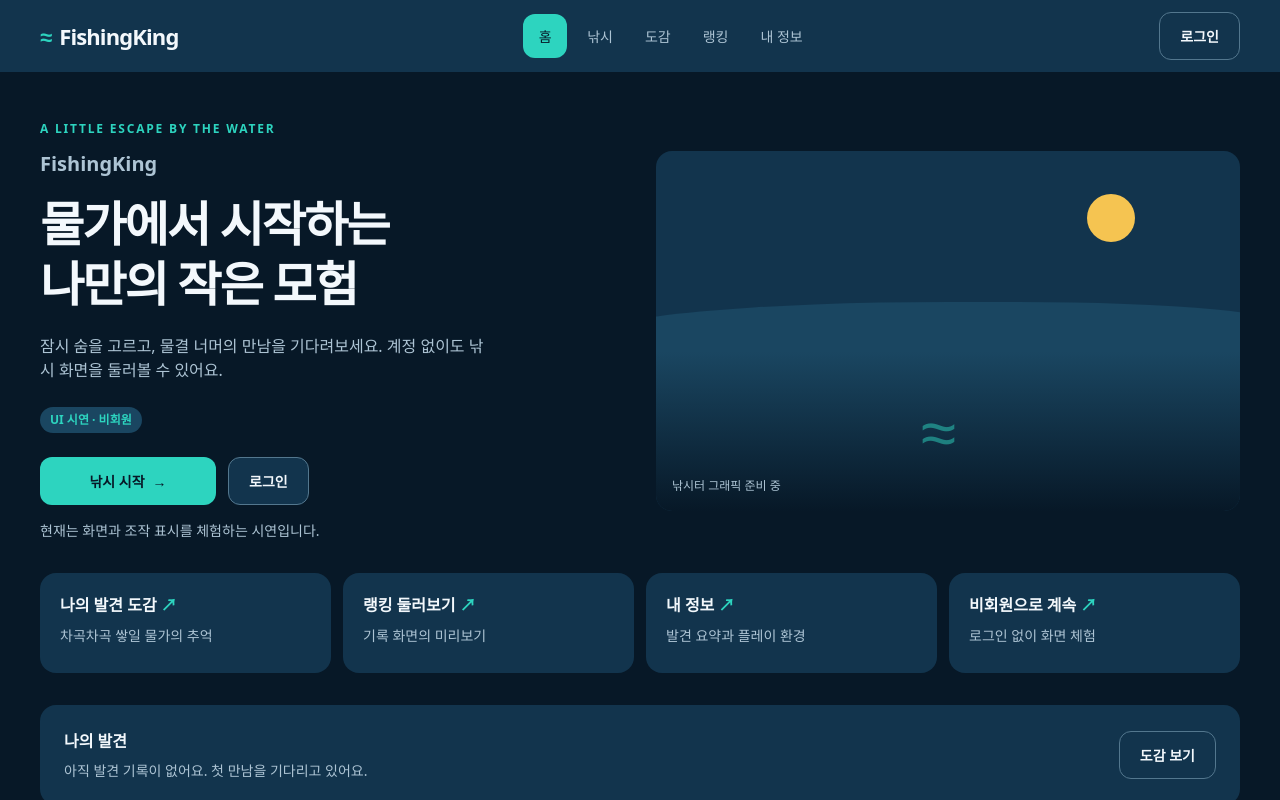
Test: 페이지와 내비게이션 › 메뉴 클릭으로 이동하고 현재 페이지를 표시한다
This screenshot has width=1280, height=800.
Click the link "도감": (658, 36) [645,26,671,46]
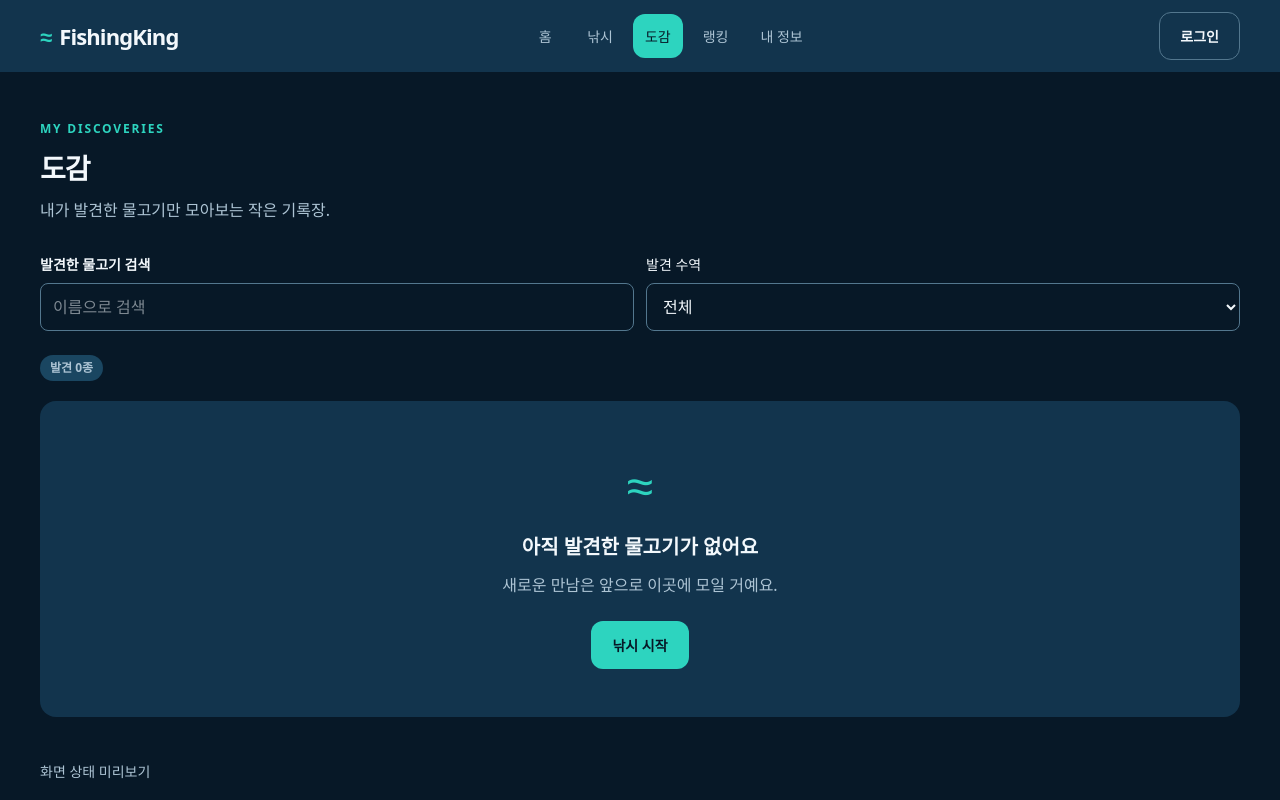
Expected: the heading "도감" is shown, [40,149,89,187]
Now the link "도감" is marked as current, box [633,14,683,58]
Click the link "랭킹": (716, 36) [703,26,728,46]
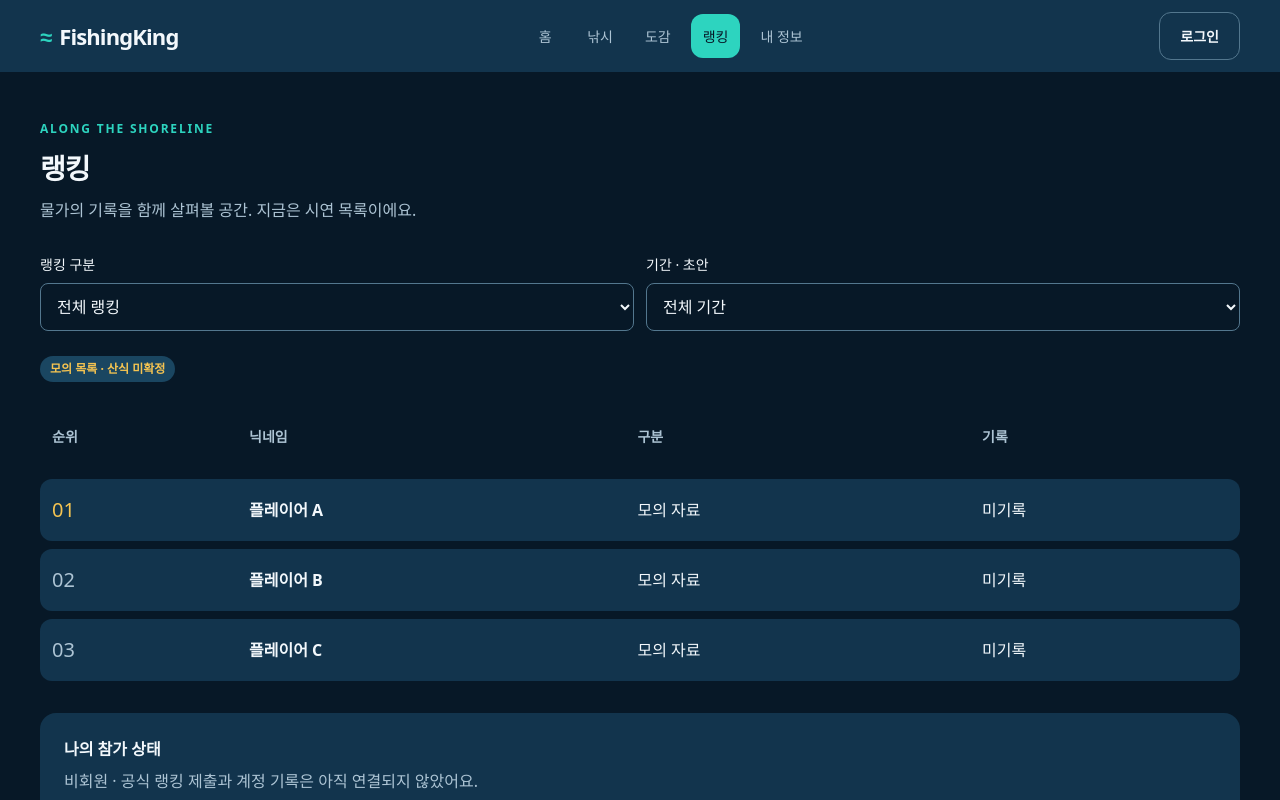
Now the heading "랭킹" is shown, box [40,149,89,187]
Click the link "내 정보": (782, 36) [760,26,803,46]
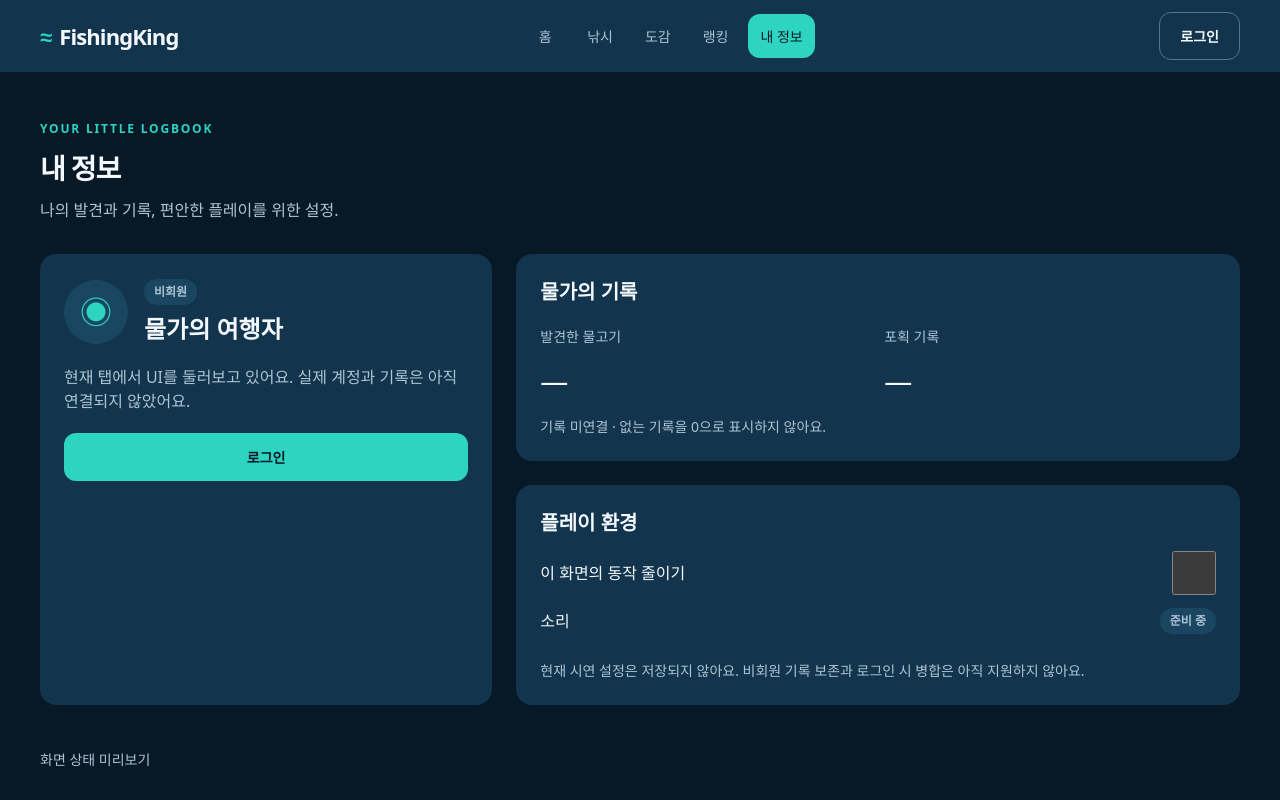
Now the heading "내 정보" is shown, box [40,149,120,187]
